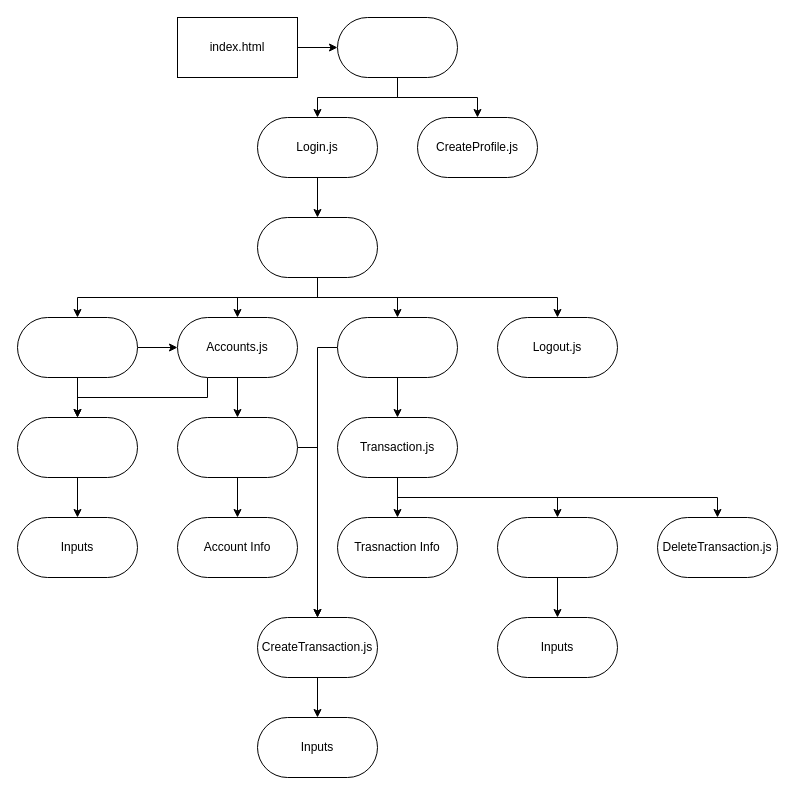
The diagram is 795 pixels wide and 795 high, and some of its shapes have lost their labels. The shapes that lost their labels are listed below. From the top down, each one's centre as x and y in pixels, then its label:
At pixel 397 47: "App.js".
At pixel 317 247: "Nav.js".
At pixel 77 347: "Home.js".
At pixel 397 347: "Transactions.js".
At pixel 77 447: "CreateAccount.js".
At pixel 237 447: "Account.js".
At pixel 557 547: "EditTransactions.js".
